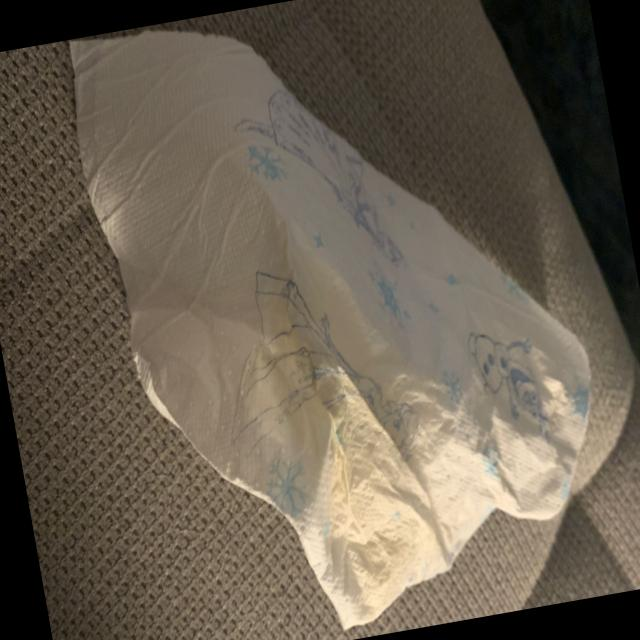organic waste: (53, 0, 629, 640)
